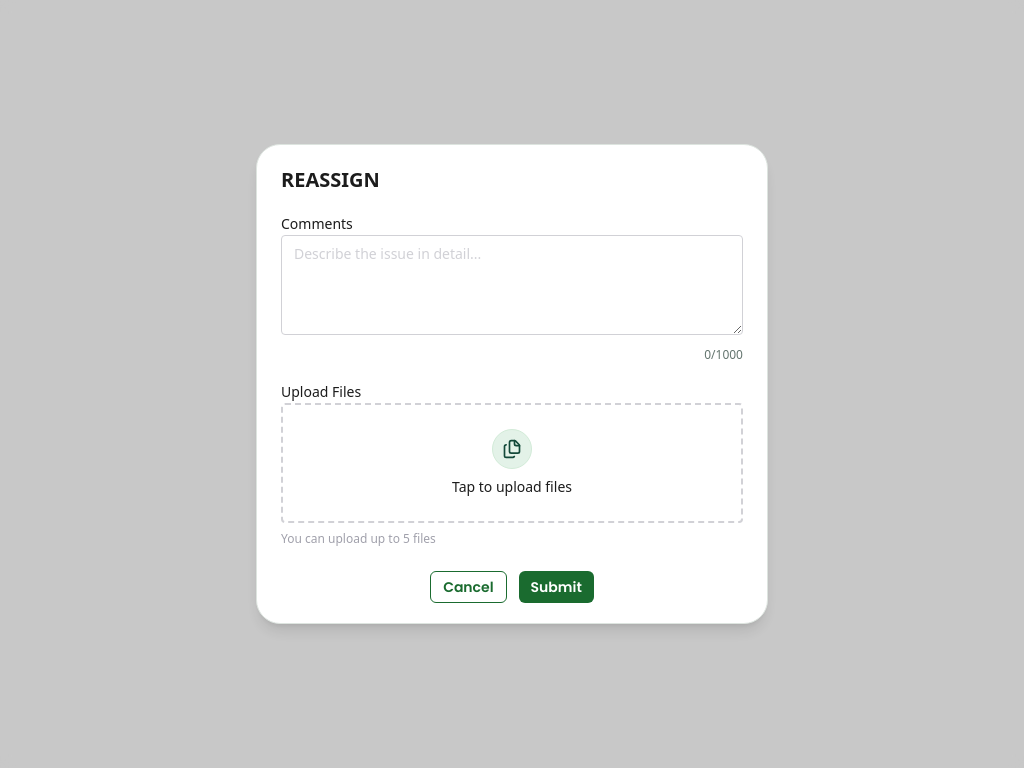
Test: ComplaintActionDialog › submission outcome › falls back to a generic message when the response has neither Errors nor a message
Click the button "Submit" at {"x": 556, "y": 587}, box x1=519 y1=571 x2=594 y2=603
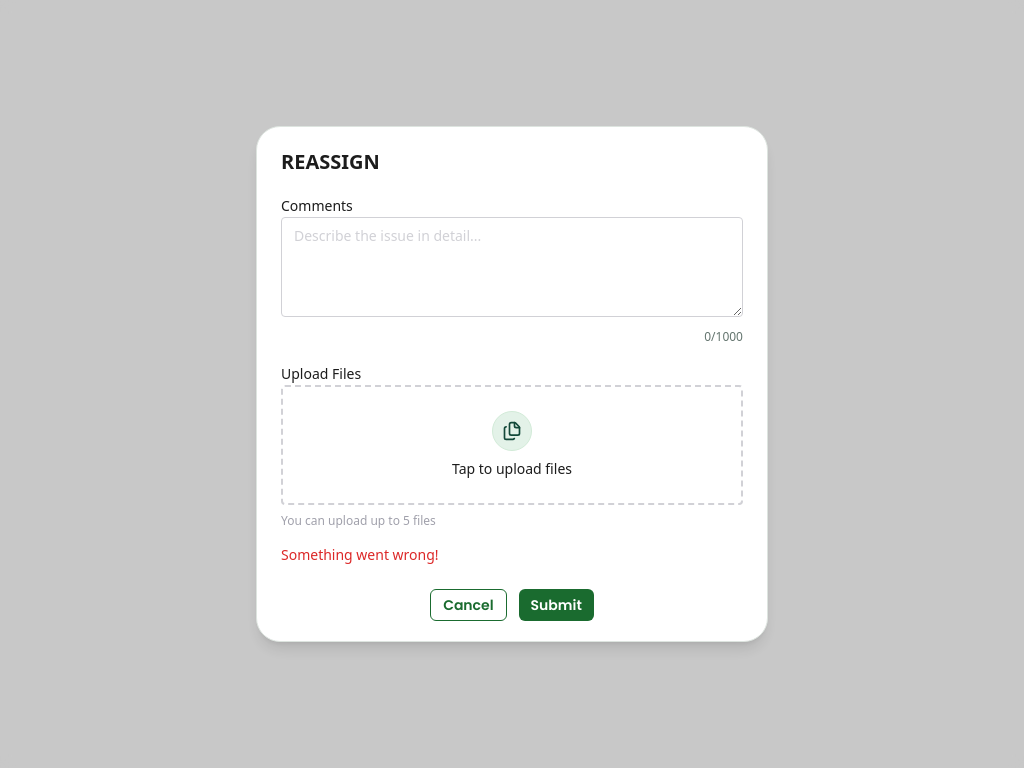
Expected: the text "Something went wrong!" is shown, x1=281 y1=545 x2=439 y2=564
